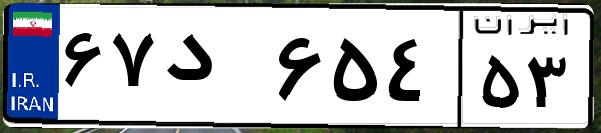3: (525, 38, 570, 115)
4: (385, 28, 445, 110)
5: (330, 28, 385, 110), (475, 38, 525, 113)
6: (270, 28, 330, 110), (57, 26, 110, 100)
7: (110, 28, 158, 98)
د: (158, 20, 270, 120)
